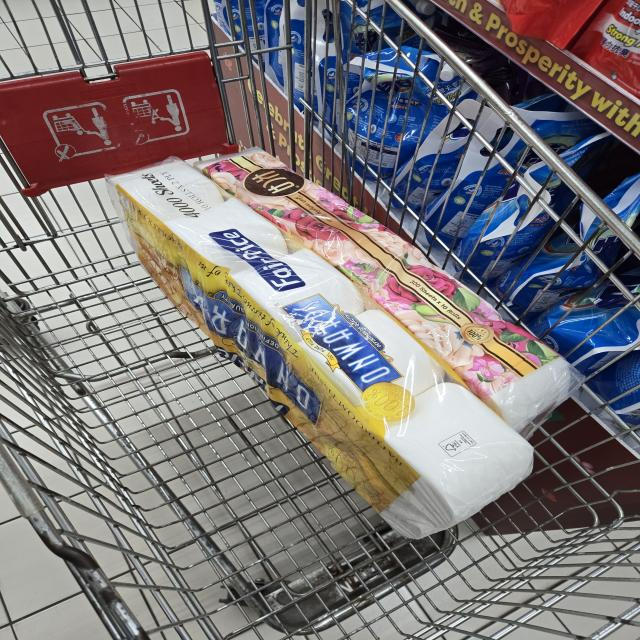toilet-paper: (107, 155, 534, 540), (193, 147, 577, 438)
